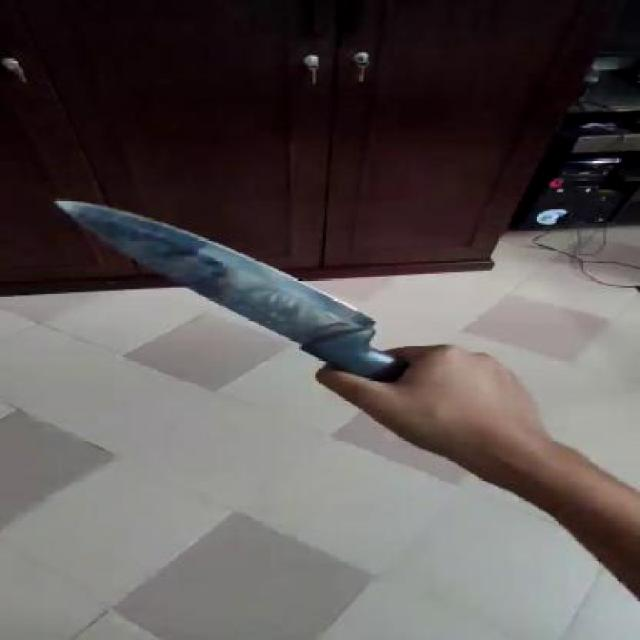knife: (22, 180, 456, 374)
